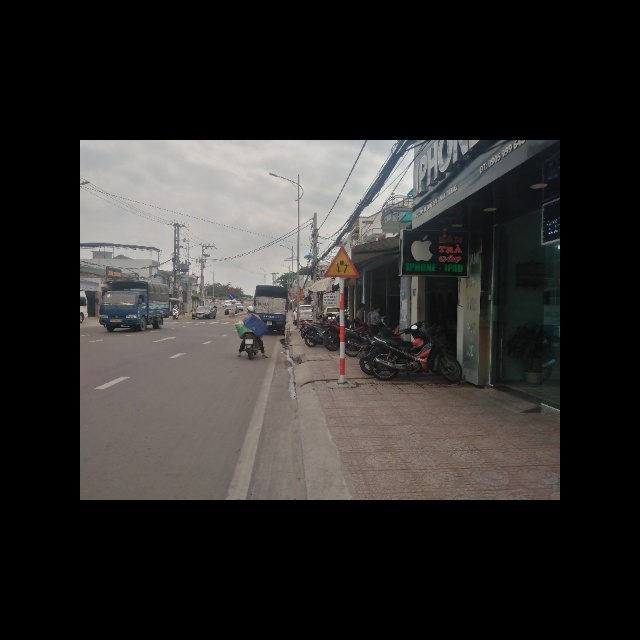Đường đôi: (323, 245, 360, 279)
